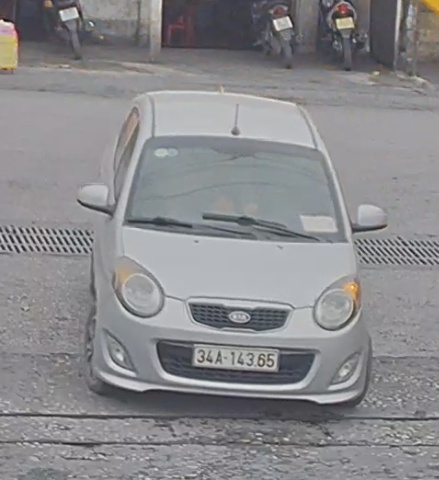vehicle plate: (194, 339, 282, 372)
